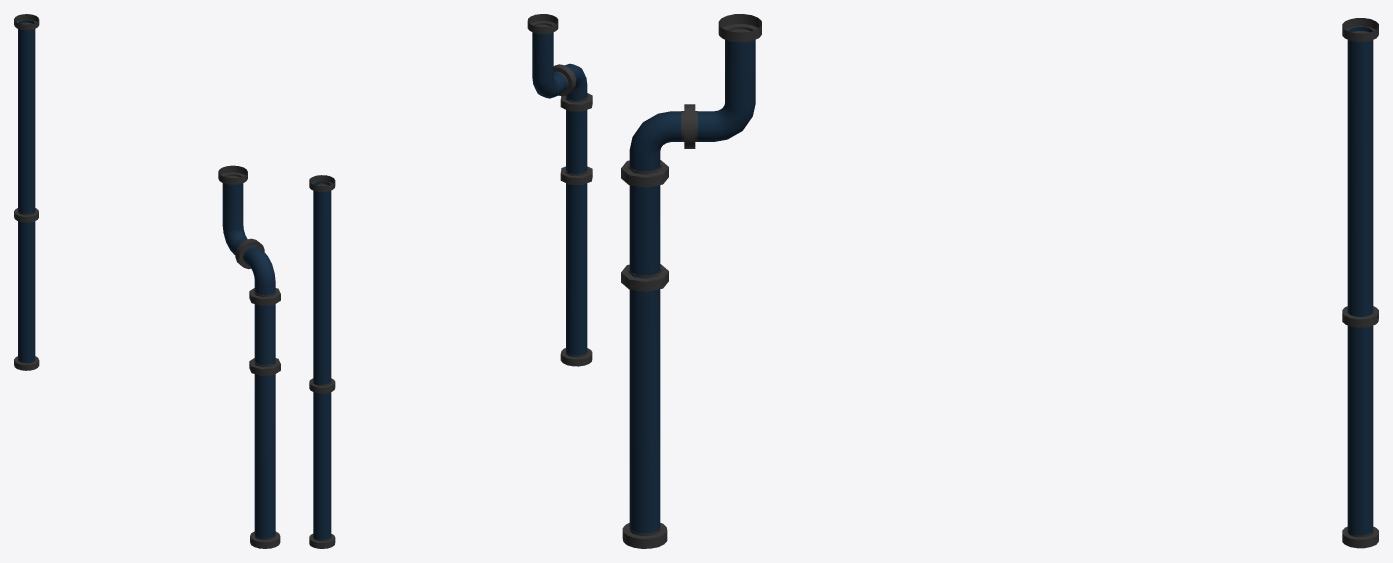
The model's file is SM_H_Building_Tide_MainShaft_05d_ATLAS.fbx.
3 renders of one model, left to right at view 1: azimuth 30°, elevation 25°; view 2: azimuth 150°, elevation 25°; view 3: azimuth 270°, elevation 25°, orthographic. The views are drawn at different scales.
Parts seen in each view (by area): view 1: SM_H_Building_Tide_MainShaft_05d_ATLAS; view 2: SM_H_Building_Tide_MainShaft_05d_ATLAS; view 3: SM_H_Building_Tide_MainShaft_05d_ATLAS.
Boxes of the visible parts, box(x1,y1,x2,y2) form: SM_H_Building_Tide_MainShaft_05d_ATLAS: box(14, 14, 280, 548); SM_H_Building_Tide_MainShaft_05d_ATLAS: box(309, 14, 592, 548); SM_H_Building_Tide_MainShaft_05d_ATLAS: box(621, 14, 1378, 548).
Bounding box in the file's own units: 71.31 × 1125 × 845.
